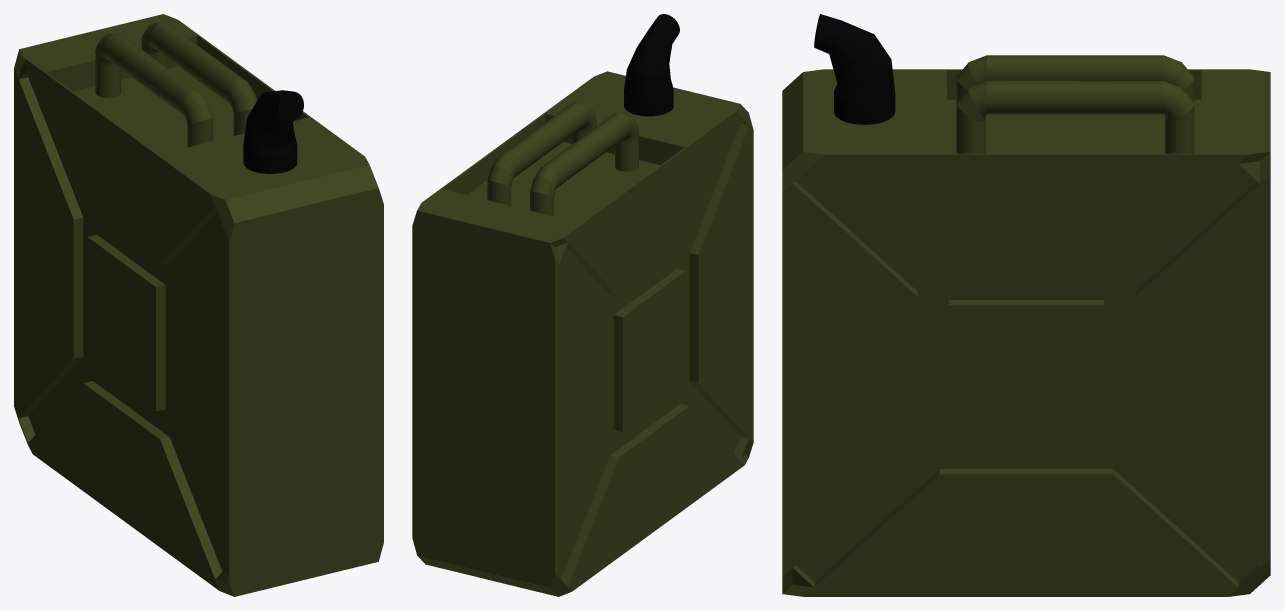
File: Gas_tank.fbx
The picture shows the model from 3 angles, left to right: view 1: azimuth 30°, elevation 25°; view 2: azimuth 150°, elevation 25°; view 3: azimuth 270°, elevation 25°; orthographic projection. The views are drawn at different scales.
Visible parts, largest first — view 1: Body; view 2: Body; view 3: Body.
Boxes of the visible parts, box(x1,y1,x2,y2) form: Body: box(14, 14, 383, 596); Body: box(412, 14, 753, 596); Body: box(782, 14, 1270, 596).
Size of the model in its own units: 18.12 by 53.26 by 43.73.
